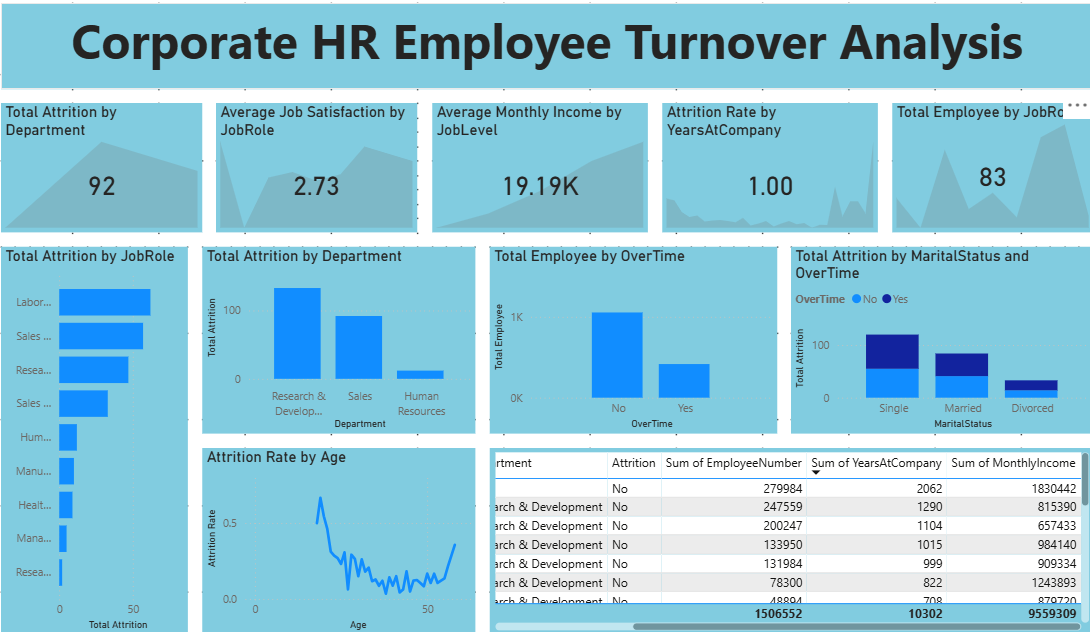

What the dashboard file says about the page in this screenshot:
{"tool":"powerbi","page":{"name":"Page 1","canvas":[1280,720],"ordinal":0},"visuals":[{"type":"kpi","fields":{"Indicator":["WA_Fn-UseC_-HR-Employee-Attrition.Attrition Rate"],"TrendLine":["WA_Fn-UseC_-HR-Employee-Attrition.YearsAtCompany"]},"box":[752,128,240,144],"z":0},{"type":"kpi","fields":{"Indicator":["WA_Fn-UseC_-HR-Employee-Attrition.Average Monthly Income"],"TrendLine":["WA_Fn-UseC_-HR-Employee-Attrition.JobLevel"]},"box":[496,128,240,144],"z":1},{"type":"kpi","fields":{"Indicator":["WA_Fn-UseC_-HR-Employee-Attrition.Average Job Satisfaction"],"TrendLine":["WA_Fn-UseC_-HR-Employee-Attrition.JobRole"]},"box":[256,128,224,144],"z":2},{"type":"kpi","fields":{"Indicator":["WA_Fn-UseC_-HR-Employee-Attrition.Total Attrition"],"TrendLine":["WA_Fn-UseC_-HR-Employee-Attrition.Department"]},"box":[16,128,224,144],"z":3},{"type":"kpi","fields":{"Indicator":["WA_Fn-UseC_-HR-Employee-Attrition.Total Employee"],"TrendLine":["WA_Fn-UseC_-HR-Employee-Attrition.JobRole"]},"box":[1008,128,224,144],"z":4},{"type":"clusteredColumnChart","fields":{"Category":["WA_Fn-UseC_-HR-Employee-Attrition.Department"],"Y":["WA_Fn-UseC_-HR-Employee-Attrition.Total Attrition"]},"box":[240,288,304,208],"z":5},{"type":"clusteredBarChart","fields":{"Y":["WA_Fn-UseC_-HR-Employee-Attrition.Total Attrition"],"Category":["WA_Fn-UseC_-HR-Employee-Attrition.JobRole"]},"box":[16,288,208,432],"z":6},{"type":"columnChart","fields":{"Category":["WA_Fn-UseC_-HR-Employee-Attrition.OverTime"],"Y":["WA_Fn-UseC_-HR-Employee-Attrition.Total Employee"]},"box":[560,288,320,208],"z":7},{"type":"lineChart","fields":{"Category":["WA_Fn-UseC_-HR-Employee-Attrition.Age"],"Y":["WA_Fn-UseC_-HR-Employee-Attrition.Attrition Rate"]},"box":[240,512,304,208],"z":8},{"type":"columnChart","fields":{"Category":["WA_Fn-UseC_-HR-Employee-Attrition.MaritalStatus"],"Y":["WA_Fn-UseC_-HR-Employee-Attrition.Total Attrition"],"Series":["WA_Fn-UseC_-HR-Employee-Attrition.OverTime"]},"box":[896,288,336,208],"z":9},{"type":"tableEx","fields":{"Values":["WA_Fn-UseC_-HR-Employee-Attrition.JobRole","WA_Fn-UseC_-HR-Employee-Attrition.Department","WA_Fn-UseC_-HR-Employee-Attrition.Attrition","Sum(WA_Fn-UseC_-HR-Employee-Attrition.EmployeeNumber)","Sum(WA_Fn-UseC_-HR-Employee-Attrition.YearsAtCompany)","Sum(WA_Fn-UseC_-HR-Employee-Attrition.MonthlyIncome)"]},"box":[560,512,672,208],"z":10},{"type":"textbox","box":[16,16,1216,96],"z":11}]}

Visuals, with their boxes in screenshot pixels (x1, y1, x2, y2), scaled from the page's 1280x720 canvas onto the 1090x632 screenshot:
kpi - WA_Fn-UseC_-HR-Employee-Attrition.Attrition Rate x WA_Fn-UseC_-HR-Employee-Attrition.YearsAtCompany: x1=640 y1=112 x2=845 y2=239
kpi - WA_Fn-UseC_-HR-Employee-Attrition.Average Monthly Income x WA_Fn-UseC_-HR-Employee-Attrition.JobLevel: x1=422 y1=112 x2=627 y2=239
kpi - WA_Fn-UseC_-HR-Employee-Attrition.Average Job Satisfaction x WA_Fn-UseC_-HR-Employee-Attrition.JobRole: x1=218 y1=112 x2=409 y2=239
kpi - WA_Fn-UseC_-HR-Employee-Attrition.Total Attrition x WA_Fn-UseC_-HR-Employee-Attrition.Department: x1=14 y1=112 x2=204 y2=239
kpi - WA_Fn-UseC_-HR-Employee-Attrition.Total Employee x WA_Fn-UseC_-HR-Employee-Attrition.JobRole: x1=858 y1=112 x2=1049 y2=239
clusteredColumnChart - WA_Fn-UseC_-HR-Employee-Attrition.Department x WA_Fn-UseC_-HR-Employee-Attrition.Total Attrition: x1=204 y1=253 x2=463 y2=435
clusteredBarChart - WA_Fn-UseC_-HR-Employee-Attrition.Total Attrition x WA_Fn-UseC_-HR-Employee-Attrition.JobRole: x1=14 y1=253 x2=191 y2=631
columnChart - WA_Fn-UseC_-HR-Employee-Attrition.OverTime x WA_Fn-UseC_-HR-Employee-Attrition.Total Employee: x1=477 y1=253 x2=749 y2=435
lineChart - WA_Fn-UseC_-HR-Employee-Attrition.Age x WA_Fn-UseC_-HR-Employee-Attrition.Attrition Rate: x1=204 y1=449 x2=463 y2=631
columnChart - WA_Fn-UseC_-HR-Employee-Attrition.MaritalStatus x WA_Fn-UseC_-HR-Employee-Attrition.Total Attrition: x1=763 y1=253 x2=1049 y2=435
tableEx - WA_Fn-UseC_-HR-Employee-Attrition.JobRole x WA_Fn-UseC_-HR-Employee-Attrition.Department: x1=477 y1=449 x2=1049 y2=631
textbox: x1=14 y1=14 x2=1049 y2=98
